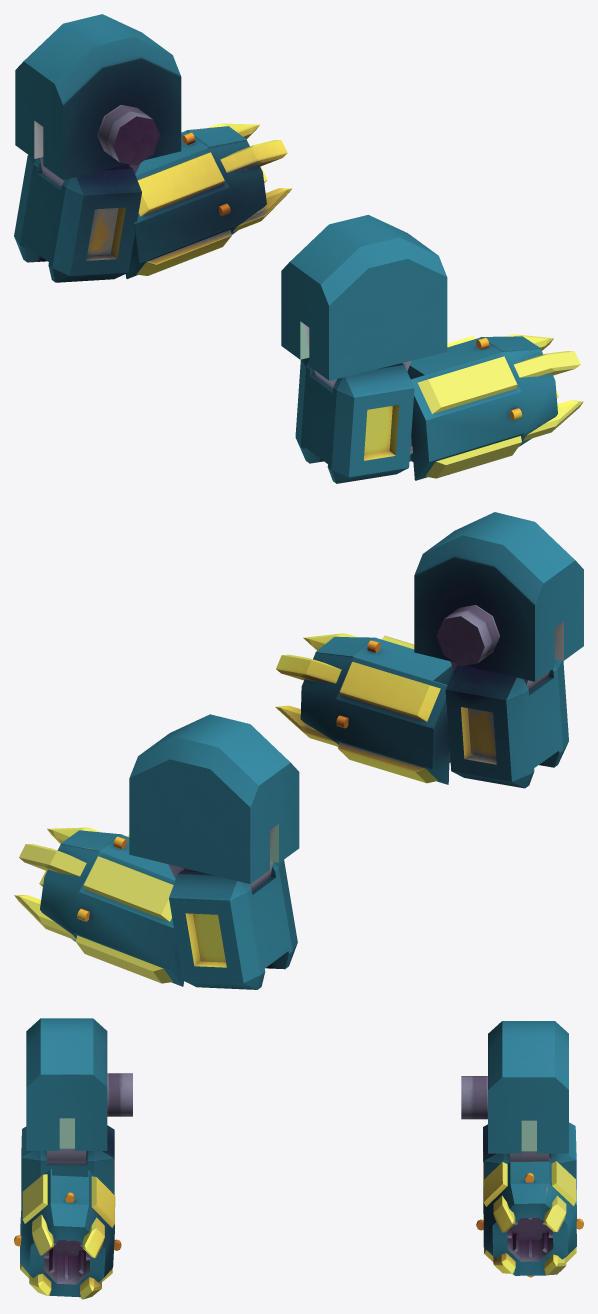
File: Player_Attack_Arm17.obj
The picture shows the model from 3 angles, top to bottom: view 1: azimuth 30°, elevation 25°; view 2: azimuth 150°, elevation 25°; view 3: azimuth 270°, elevation 25°; orthographic projection. The views are drawn at different scales.
Parts seen in each view (by area): view 1: Object005, Object003, Object001, Object007, Object006, Object002; view 2: Object005, Object003, Object001, Object007, Object006, Object002; view 3: Object003, Object005, Object001, Object007, Object002, Object006.
Part boxes in pixels (x1=…): Object005: x1=15, y1=14, x2=181, y2=179; Object003: x1=281, y1=214, x2=447, y2=380; Object001: x1=407, y1=334, x2=583, y2=480; Object007: x1=125, y1=123, x2=291, y2=278; Object006: x1=14, y1=155, x2=141, y2=282; Object002: x1=295, y1=358, x2=414, y2=483; Object005: x1=129, y1=714, x2=299, y2=883; Object003: x1=414, y1=512, x2=583, y2=681; Object001: x1=275, y1=633, x2=453, y2=784; Object007: x1=14, y1=827, x2=183, y2=986; Object006: x1=168, y1=860, x2=297, y2=989; Object002: x1=445, y1=659, x2=568, y2=788; Object003: x1=26, y1=1018, x2=132, y2=1150; Object005: x1=461, y1=1021, x2=568, y2=1153; Object001: x1=14, y1=1169, x2=121, y2=1299; Object007: x1=476, y1=1157, x2=583, y2=1277; Object002: x1=21, y1=1125, x2=114, y2=1203; Object006: x1=483, y1=1122, x2=576, y2=1218.
Bounding box in the file's own units: 37.91 × 34.82 × 83.71.
Materials: 1 (1 with a texture image).
